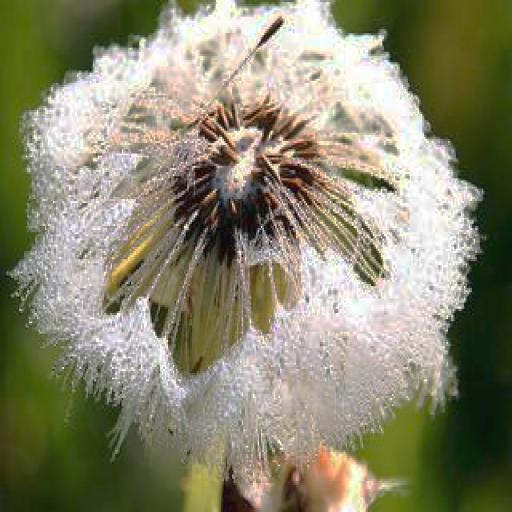dandelion: (13, 0, 509, 512)
